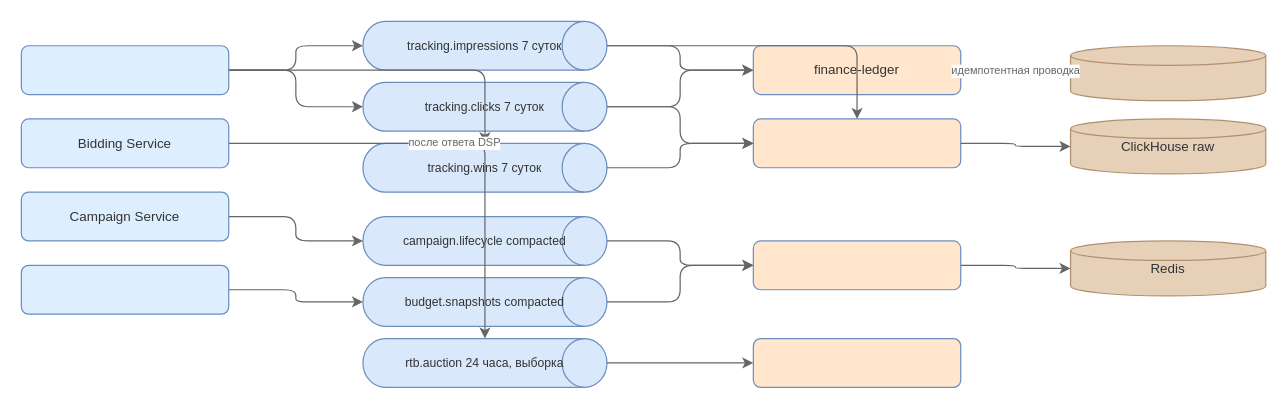
This 1287x409 diagram has some shape labels left out. Here are the shapes that lost their labels. From the top down, the centre of each, then its label:
At [124,70]: "Tracking Ingress".
At [1167,73]: "Finance PostgreSQL".
At [856,143]: "stats-loader".
At [856,265]: "bidding-projector".
At [124,289]: "Finance Service".
At [856,362]: "auction-debug".
